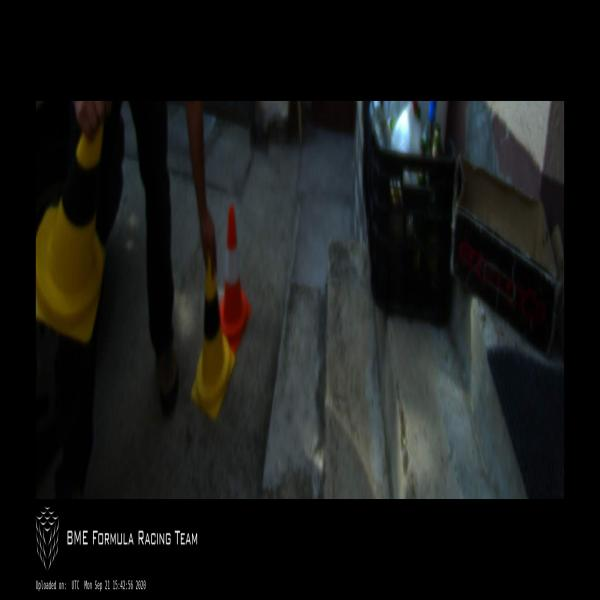orange_cone: (219, 205, 252, 355)
yellow_cone: (36, 101, 108, 340), (190, 248, 235, 418)
